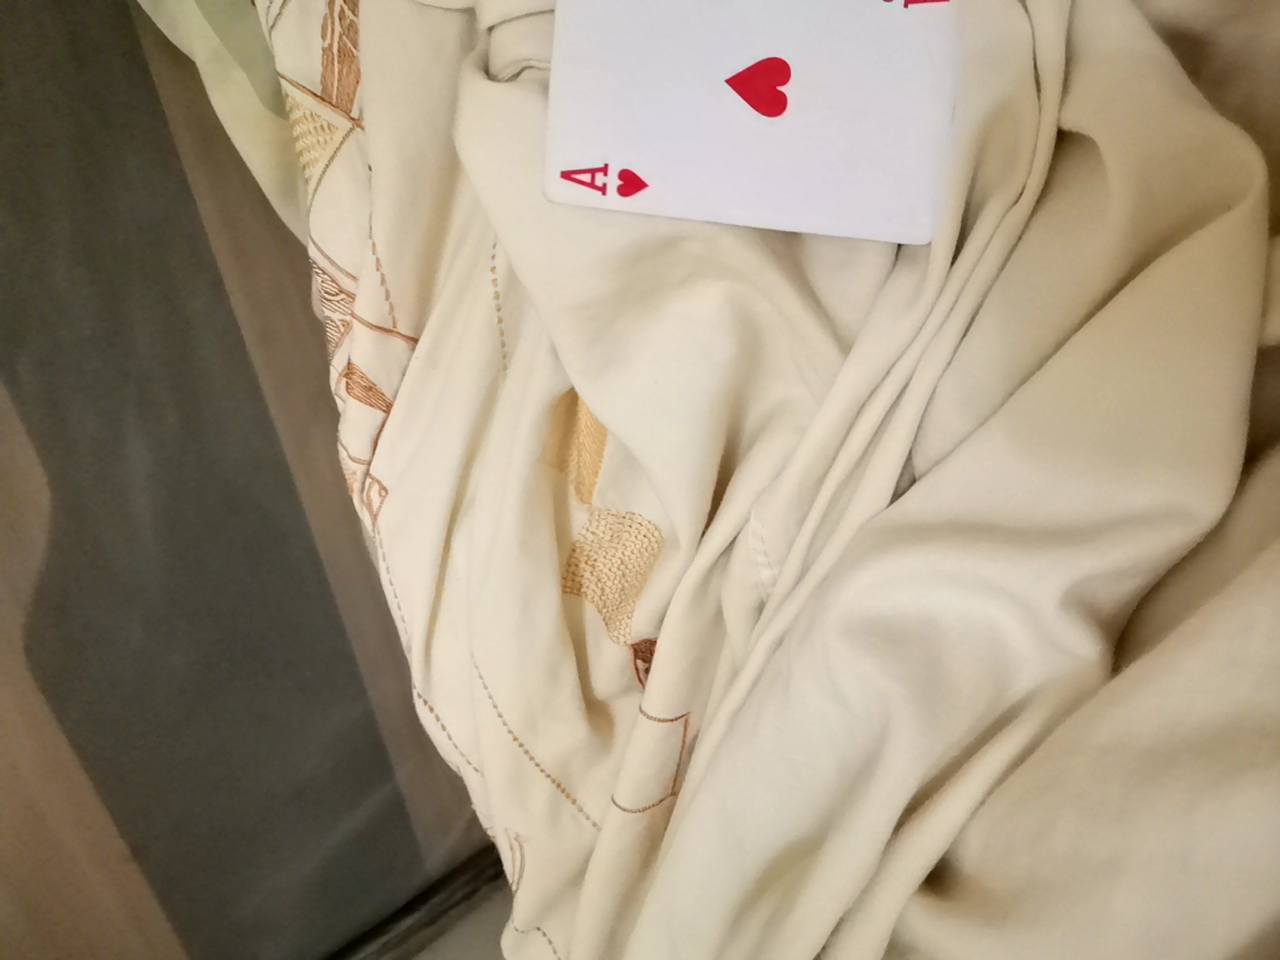hx a: (508, 0, 1006, 239)
